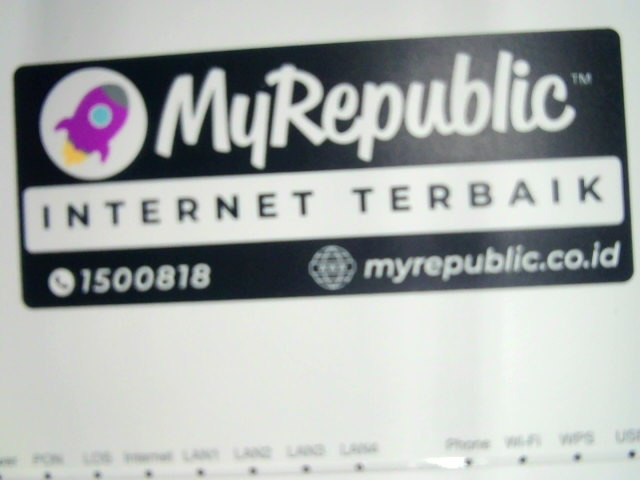BD_MyRepublic: (4, 24, 639, 299)
